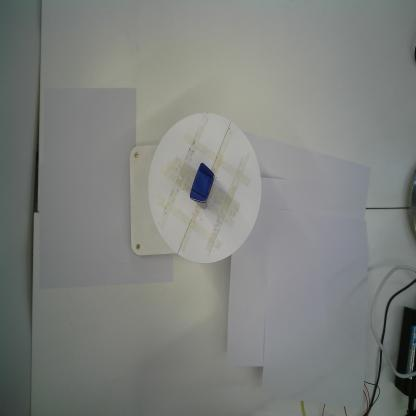Personal Hygiene: (190, 162, 214, 204)
